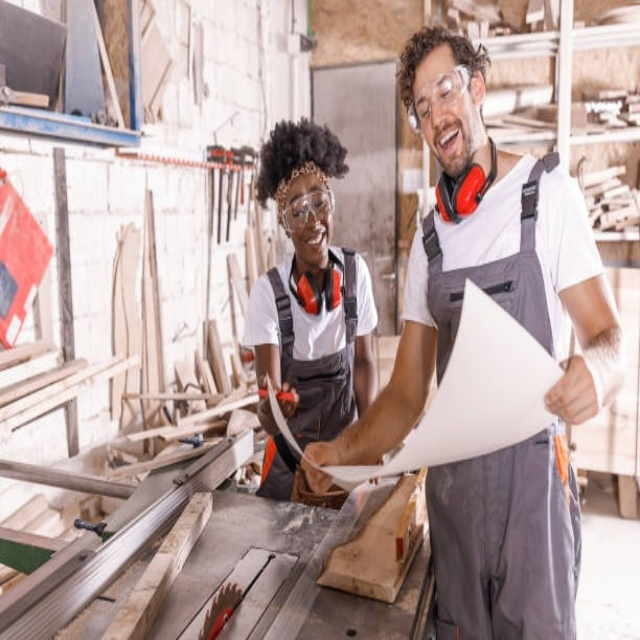Gafas: (410, 64, 474, 134), (283, 187, 335, 231)
Sin_guantes: (542, 340, 608, 430), (298, 436, 347, 499)
Sin_mascara: (436, 118, 468, 163), (301, 227, 327, 256)
